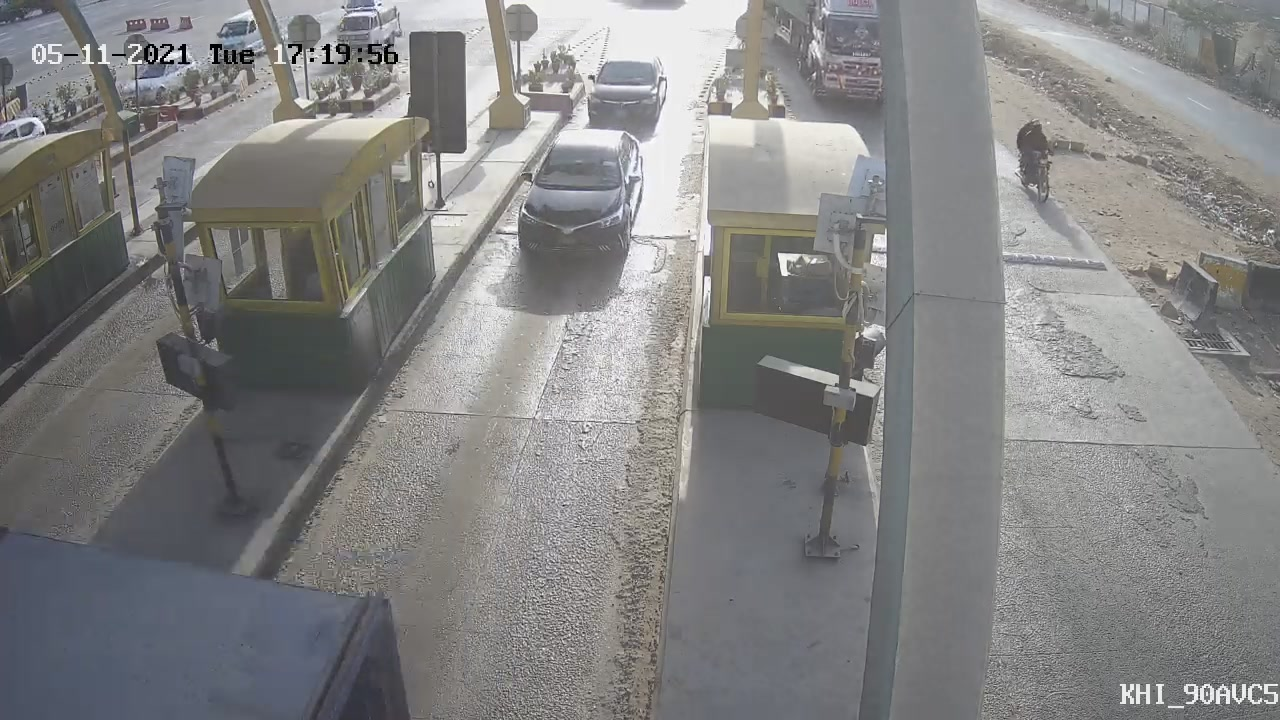F1: (499, 117, 659, 282), (574, 46, 677, 138)
